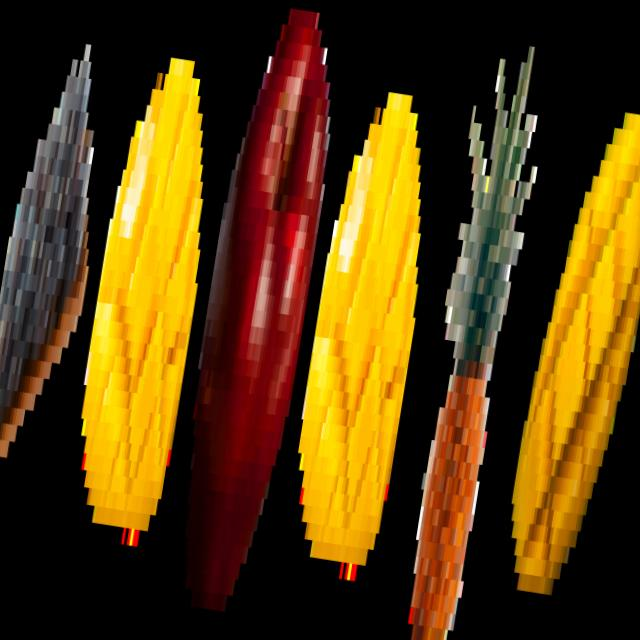apple: (158, 0, 359, 617)
grape: (0, 4, 133, 533)
mango: (55, 12, 242, 572), (272, 53, 458, 610), (487, 70, 640, 640)
pineapples: (386, 28, 559, 640)
